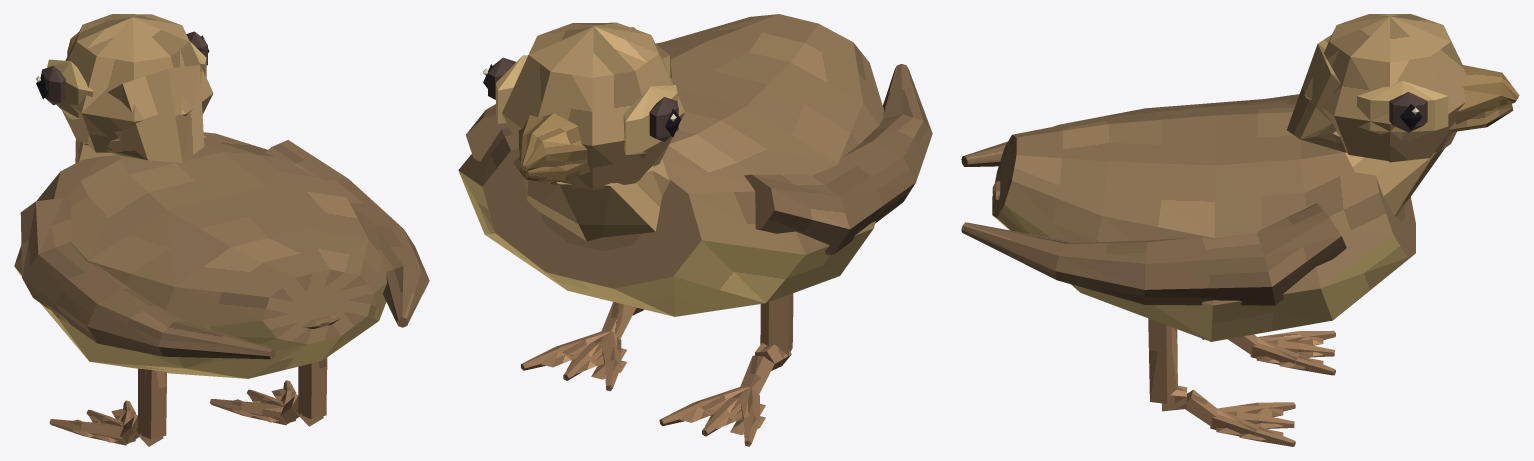
The model's file is mon_grebe_chick.glb.
3 views of the same model, side by side, from view 1: azimuth 30°, elevation 25°; view 2: azimuth 150°, elevation 25°; view 3: azimuth 270°, elevation 25° (orthographic). The views are drawn at different scales.
Visible parts, largest first — view 1: closed_body; view 2: closed_body; view 3: closed_body.
Boxes of the visible parts, x1,y1,x2,y2 form: closed_body: (14, 14, 429, 446); closed_body: (458, 14, 932, 446); closed_body: (961, 14, 1519, 446).
Bounding box in the file's own units: 0.0855 × 0.0888 × 0.1187.
1 material, 1 textured.
